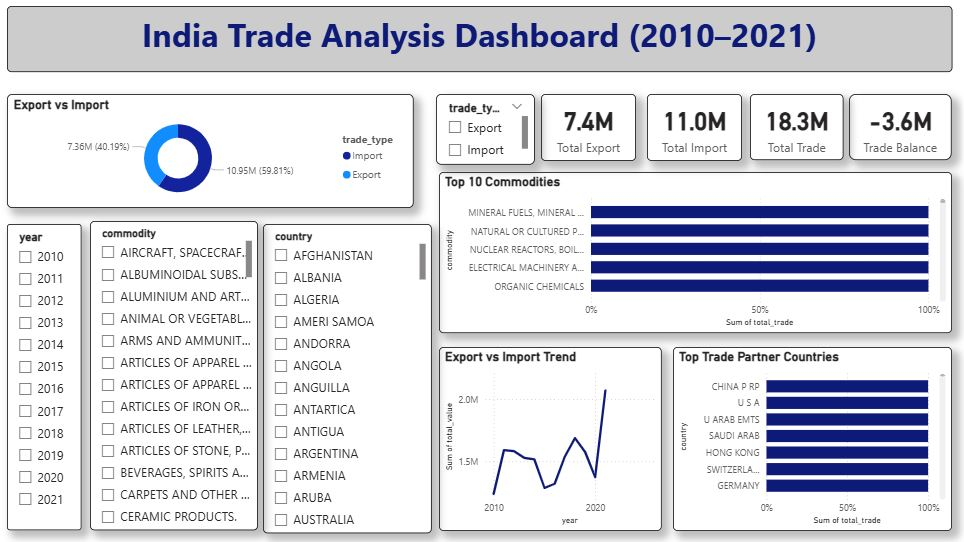

What the dashboard file says about the page in this screenshot:
{"tool":"powerbi","page":{"name":"Page 1","canvas":[1280,720],"ordinal":0},"visuals":[{"type":"lineChart","title":"Export vs Import Trend","fields":{"Y":["Sum(public yearly_trade_summary.total_value)"],"Category":["public yearly_trade_summary.year"]},"box":[580,461.7,293.3,241.7],"z":0},{"type":"hundredPercentStackedBarChart","title":"Top 10 Commodities","fields":{"Category":["public commodity_summary.commodity"],"Y":["Sum(public commodity_summary.total_trade)"]},"box":[580,231.7,675,211.7],"z":1000},{"type":"hundredPercentStackedBarChart","title":"Top Trade Partner Countries","fields":{"Category":["public country_summary.country"],"Y":["Sum(public country_summary.total_trade)"]},"box":[888.3,461.7,366.7,241.7],"z":2000},{"type":"card","title":"Export vs Import Trend","fields":{"Values":["public trade_data.Total Export"]},"box":[715,128.3,125,88.3],"z":3000},{"type":"card","title":"Export vs Import Trend","fields":{"Values":["public trade_data.Total Import"]},"box":[853.3,128.3,125,88.3],"z":4000},{"type":"card","title":"Export vs Import Trend","fields":{"Values":["public trade_data.Trade Balance"]},"box":[1120,128.3,135,86.7],"z":5000},{"type":"card","title":"Export vs Import Trend","fields":{"Values":["public trade_data.Total Trade"]},"box":[990,128.3,123.3,86.7],"z":6000},{"type":"slicer","title":"Export vs Import Trend","fields":{"Values":["public trade_data.year"]},"box":[11.7,300,98.3,403.3],"z":7000},{"type":"slicer","title":"Export vs Import Trend","fields":{"Values":["public trade_data.trade_type"]},"box":[576.7,128.3,130,93.3],"z":8000},{"type":"slicer","title":"Export vs Import Trend","fields":{"Values":["public trade_data.country"]},"box":[348.3,300,221.7,406.7],"z":9000},{"type":"slicer","title":"Export vs Import Trend","fields":{"Values":["public commodity_summary.commodity"]},"box":[121.4,295.7,221.4,407.1],"z":10000},{"type":"donutChart","title":"Export vs Import","fields":{"Category":["public trade_data.trade_type"],"Y":["Sum(public trade_data.value)"]},"box":[11.7,128.3,535,150],"z":11000},{"type":"textbox","box":[11.4,12.9,1244.3,87.1],"z":11001}]}

Visuals, with their boxes in screenshot pixels (x1, y1, x2, y2), scaled from the page's 1280x720 canvas onto the 964x542 screenshot:
"Export vs Import Trend" lineChart: <bbox>437, 348, 658, 530</bbox>
"Top 10 Commodities" hundredPercentStackedBarChart: <bbox>437, 174, 945, 334</bbox>
"Top Trade Partner Countries" hundredPercentStackedBarChart: <bbox>669, 348, 945, 530</bbox>
"Export vs Import Trend" card: <bbox>538, 97, 633, 163</bbox>
"Export vs Import Trend" card: <bbox>643, 97, 737, 163</bbox>
"Export vs Import Trend" card: <bbox>844, 97, 945, 162</bbox>
"Export vs Import Trend" card: <bbox>746, 97, 838, 162</bbox>
"Export vs Import Trend" slicer: <bbox>9, 226, 83, 529</bbox>
"Export vs Import Trend" slicer: <bbox>434, 97, 532, 167</bbox>
"Export vs Import Trend" slicer: <bbox>262, 226, 429, 532</bbox>
"Export vs Import Trend" slicer: <bbox>91, 223, 258, 529</bbox>
"Export vs Import" donutChart: <bbox>9, 97, 412, 209</bbox>
textbox: <bbox>9, 10, 946, 75</bbox>
